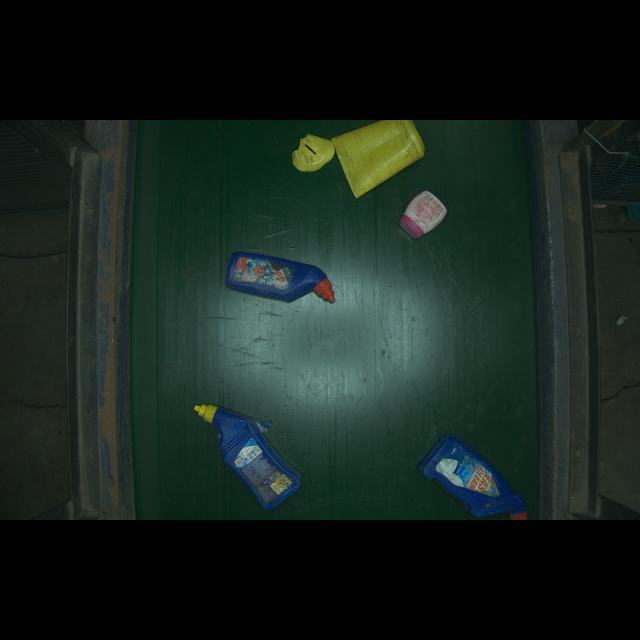mix hd: (181, 398, 321, 520), (409, 429, 546, 524), (283, 123, 435, 197), (223, 238, 339, 313), (394, 188, 454, 241)
